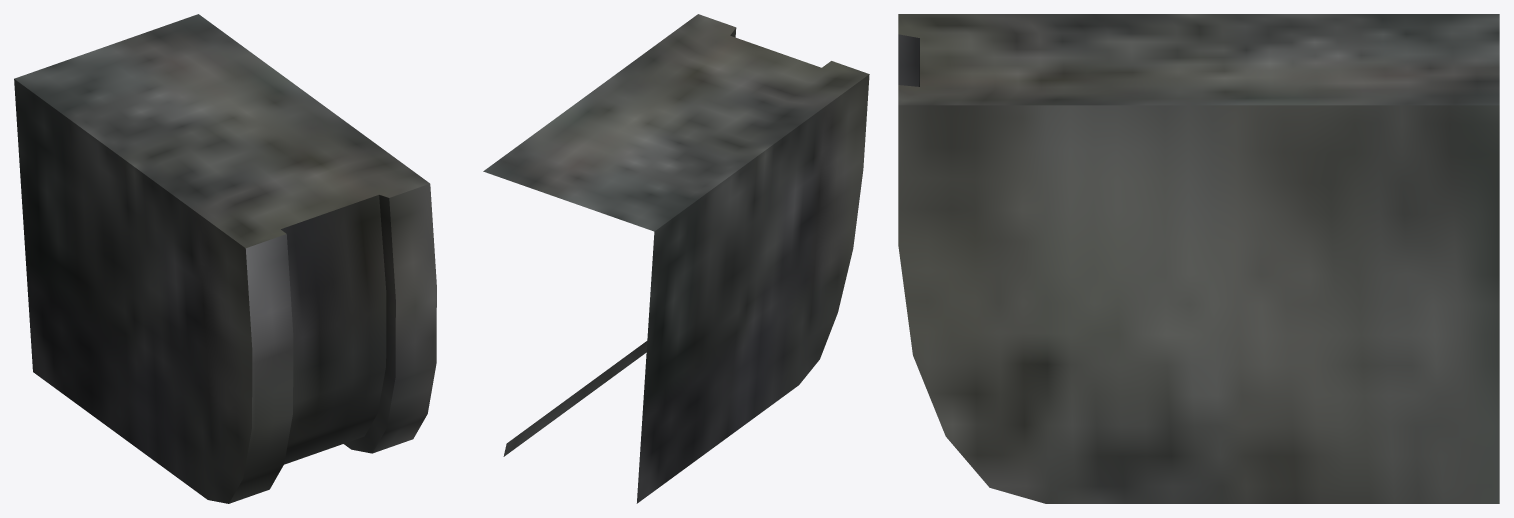
File: prop_higgins_part3.glb
The picture shows the model from 3 angles, left to right: view 1: azimuth 30°, elevation 25°; view 2: azimuth 150°, elevation 25°; view 3: azimuth 270°, elevation 25°; orthographic projection. The views are drawn at different scales.
Size of the model in its own units: 10.14 by 15.13 by 20.
Materials: 1 (1 with a texture image).
